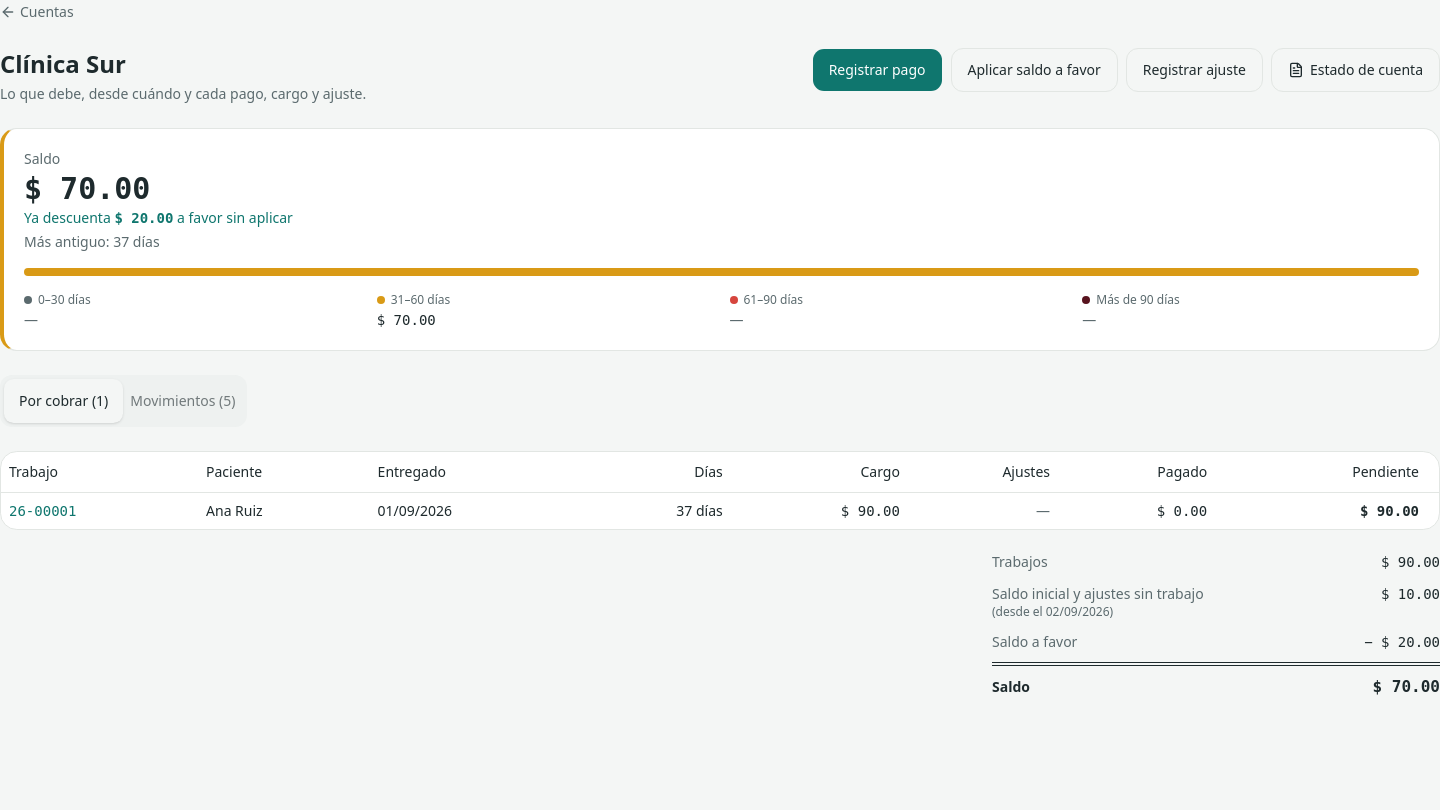
Test case: ClinicAccountContent › «Anular pago» nombra los trabajos a los que se aplicó el pago de esa fila (UX5-03)
The width and height of the screenshot is (1440, 810).
Click the tab "Movimientos (5)": x=183, y=401 [123, 379, 243, 423]
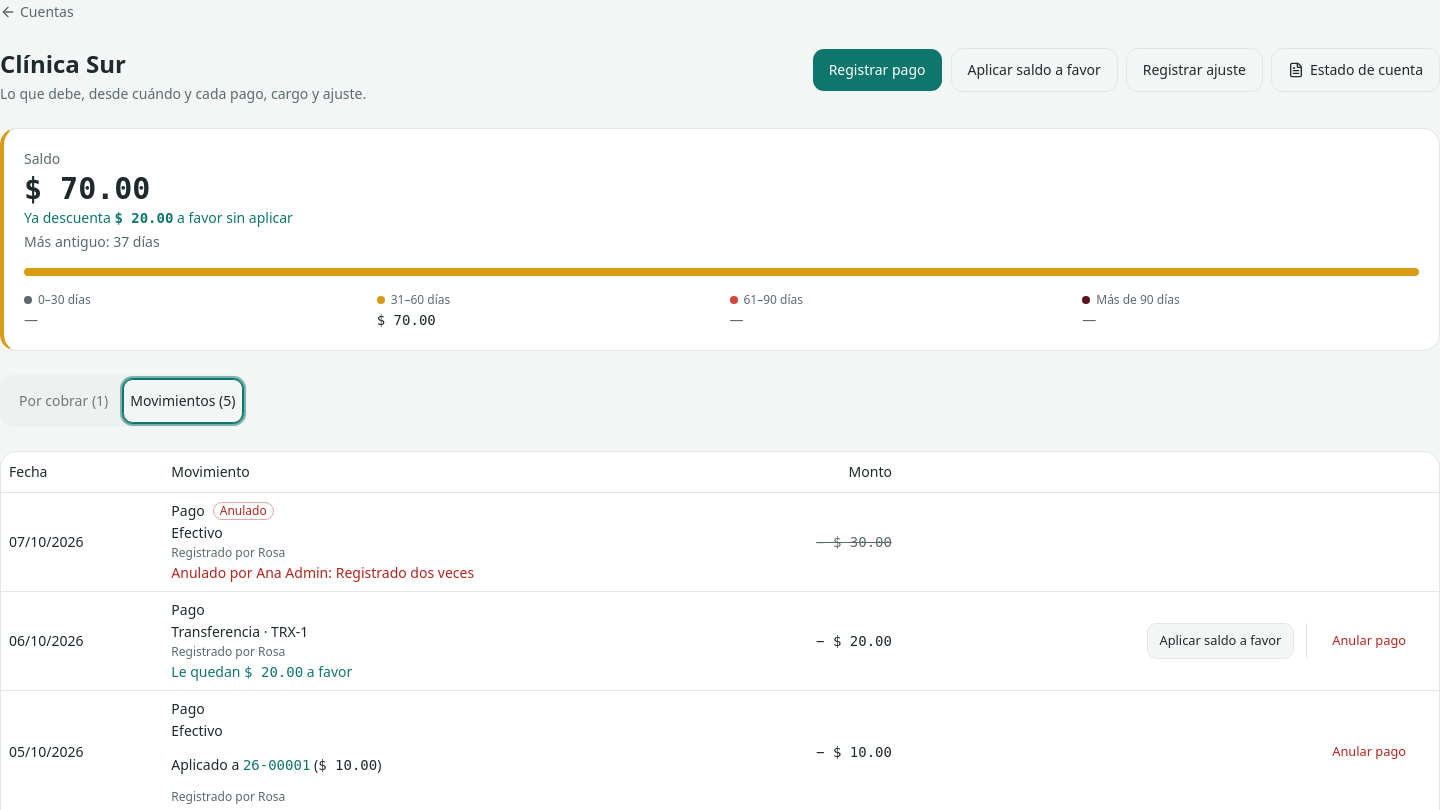
Click the button with aria-label "Anular pago de $ 10.00 del 05/10/2026": x=1369, y=752 [1319, 734, 1419, 770]
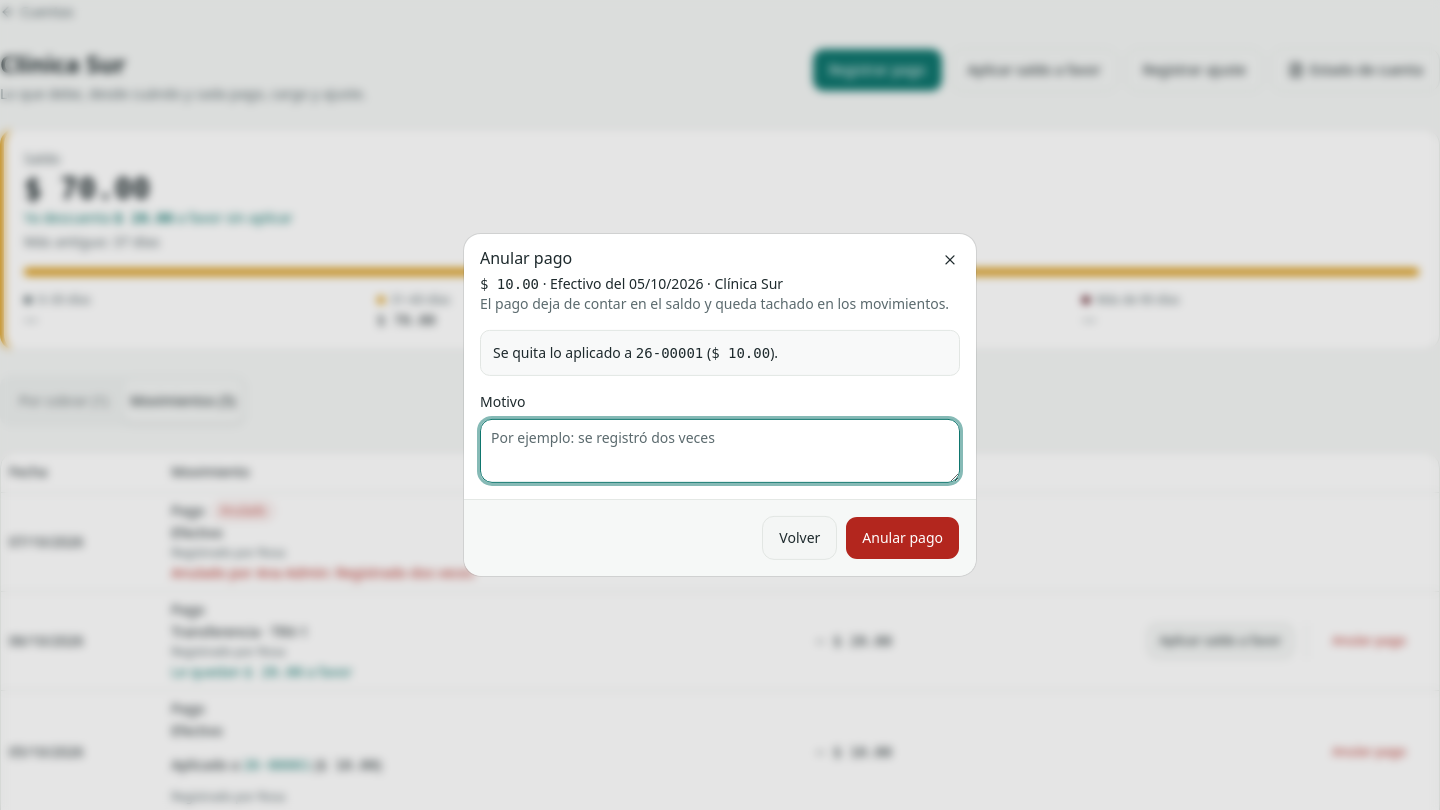
Check: the dialog "Anular pago" shows "Se quita lo aplicado a 26-00001 ($ 10.00).", box [464, 234, 976, 576]
